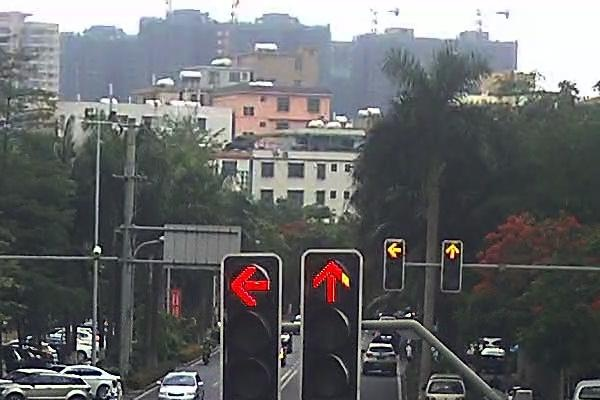redleft: (228, 263, 272, 311), (385, 242, 403, 260)
redstraight: (309, 257, 353, 307), (444, 244, 461, 261)
